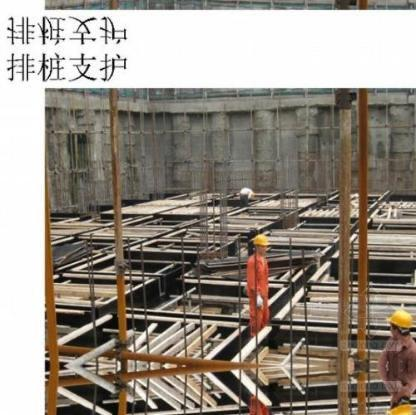helmet: (385, 303, 416, 336), (250, 230, 273, 250)
